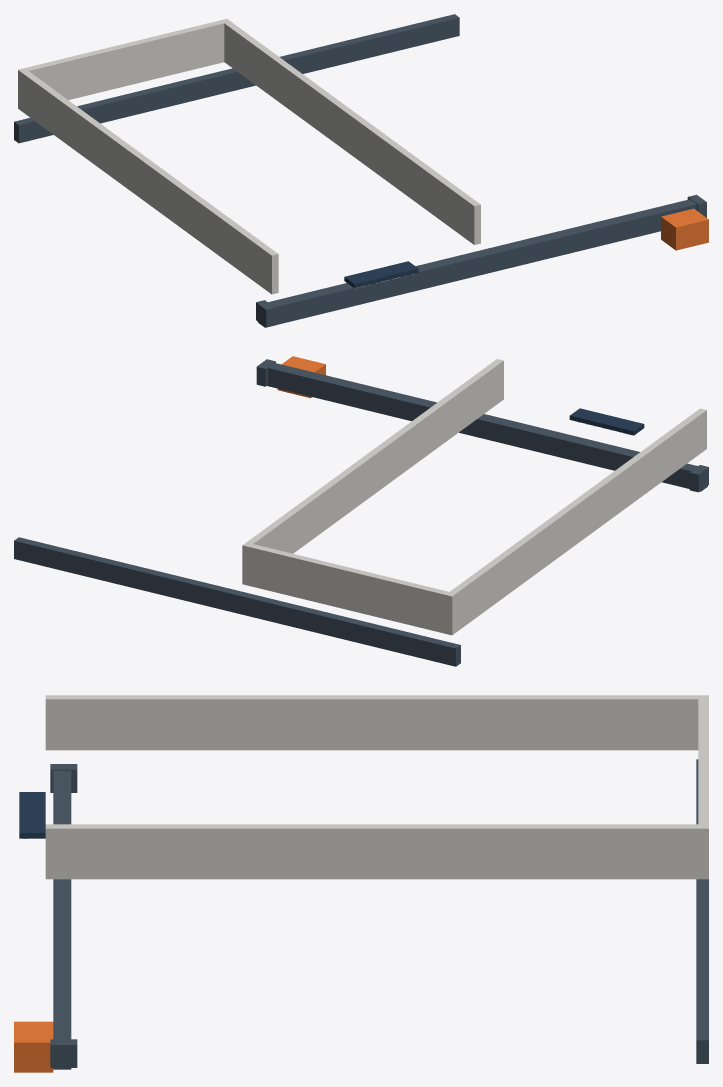
The model's file is MotionReady_Entry_Track_and_Servo.obj.
The picture shows the model from 3 angles, top to bottom: view 1: azimuth 30°, elevation 25°; view 2: azimuth 150°, elevation 25°; view 3: azimuth 270°, elevation 25°; orthographic projection. The views are drawn at different scales.
Visible parts, largest first — view 1: Door_frame_left, Door_frame_right, Sliding_Track_Top, Sliding_Track_Bottom, Door_frame_sill, Sliding_Drive_Servo, Label_ENTRY_plate; view 2: Door_frame_left, Door_frame_right, Sliding_Track_Bottom, Door_frame_sill, Sliding_Track_Top, Label_ENTRY_plate, Sliding_Drive_Servo; view 3: Door_frame_right, Door_frame_left, Sliding_Track_Top, Sliding_Track_Bottom, Sliding_Drive_Servo, Door_frame_sill, Label_ENTRY_plate, Sliding_Stop_Right.
Part boxes in pixels (x1,y1,x2,y2): Door_frame_left: (18, 68, 278, 294); Door_frame_right: (221, 19, 480, 244); Sliding_Track_Top: (258, 199, 696, 327); Sliding_Track_Bottom: (14, 14, 459, 143); Door_frame_sill: (22, 20, 226, 99); Sliding_Drive_Servo: (661, 208, 708, 250); Label_ENTRY_plate: (344, 261, 418, 288); Door_frame_left: (445, 408, 706, 635); Door_frame_right: (242, 359, 503, 585); Sliding_Track_Bottom: (14, 537, 460, 666); Door_frame_sill: (245, 544, 451, 634); Sliding_Track_Top: (267, 363, 707, 491); Label_ENTRY_plate: (569, 408, 644, 435); Sliding_Drive_Servo: (277, 356, 325, 398); Door_frame_right: (45, 824, 708, 879); Door_frame_left: (45, 695, 708, 750); Sliding_Track_Top: (53, 770, 71, 1069); Sliding_Track_Bottom: (696, 759, 708, 1063); Sliding_Drive_Servo: (14, 1021, 53, 1072); Door_frame_sill: (698, 698, 708, 826); Label_ENTRY_plate: (19, 792, 45, 838); Sliding_Stop_Right: (50, 1039, 77, 1067).
Bounding box in the file's own units: 2205 × 391 × 2305.
